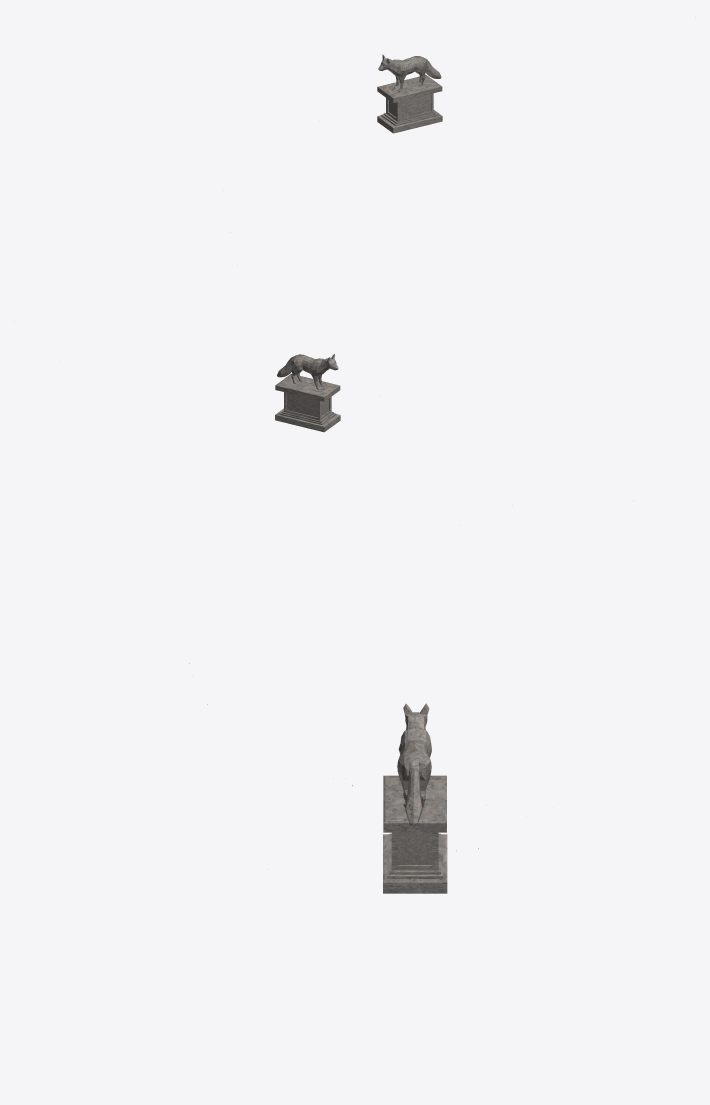
The model's file is estatua.glb.
3 views of the same model, one above another, from view 1: azimuth 30°, elevation 25°; view 2: azimuth 150°, elevation 25°; view 3: azimuth 270°, elevation 25° (orthographic). The views are drawn at different scales.
Parts seen in each view (by area): view 1: Statue droite_0, Statue Renard.001_0; view 2: Statue droite_0, Statue Renard.001_0; view 3: Statue droite_0, Statue Renard.001_0.
Part boxes in pixels (bbox=[...]): Statue droite_0: bbox=[377, 75, 442, 133]; Statue Renard.001_0: bbox=[378, 54, 441, 91]; Statue droite_0: bbox=[275, 373, 340, 432]; Statue Renard.001_0: bbox=[277, 354, 338, 389]; Statue droite_0: bbox=[383, 775, 447, 893]; Statue Renard.001_0: bbox=[397, 703, 431, 825].
Size of the model in its own units: 40.83 by 7.23 by 11.37.
Materials: 2 (2 with a texture image).
